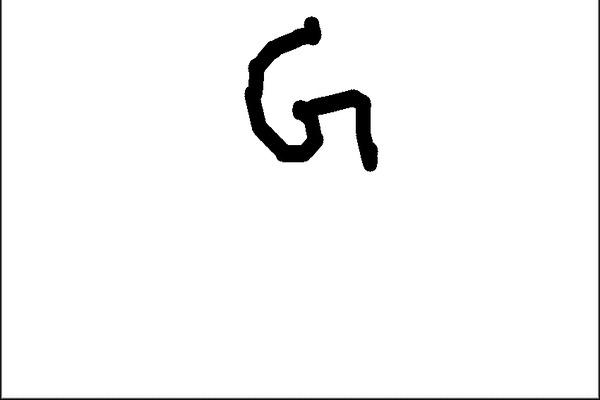G: (240, 12, 385, 174)
